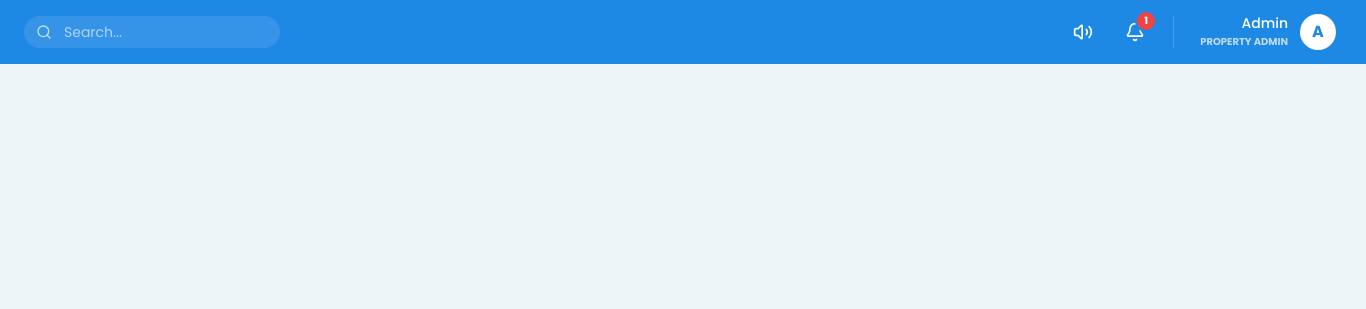
Scenario: TopBar notification bell › opens the dropdown and displays notifications
Step 1. Click the button with test id "notification-bell" → (1135, 32), box [1117,14,1153,50]
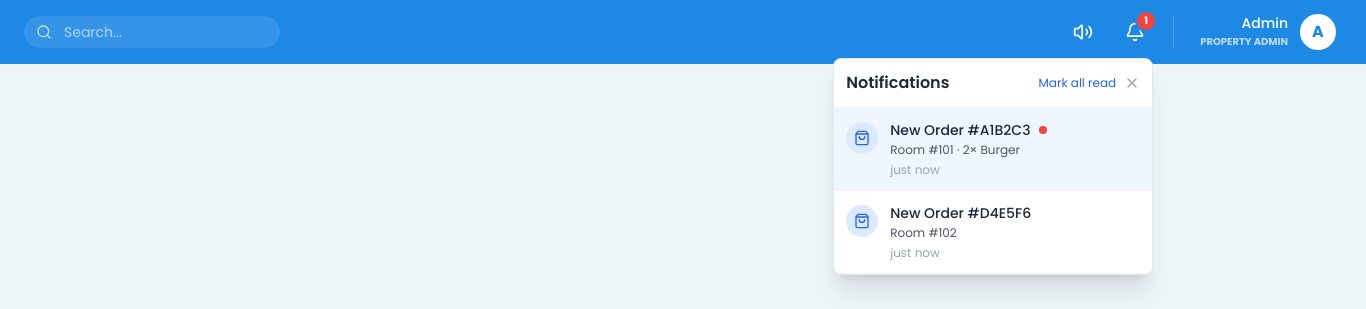
expect the element with test id "notification-list" is shown: met, box [834,108,1152,274]
expect the number of menu items with test id "notification-item" is 2: met, box [834,108,1152,191]; [834,191,1152,274]
